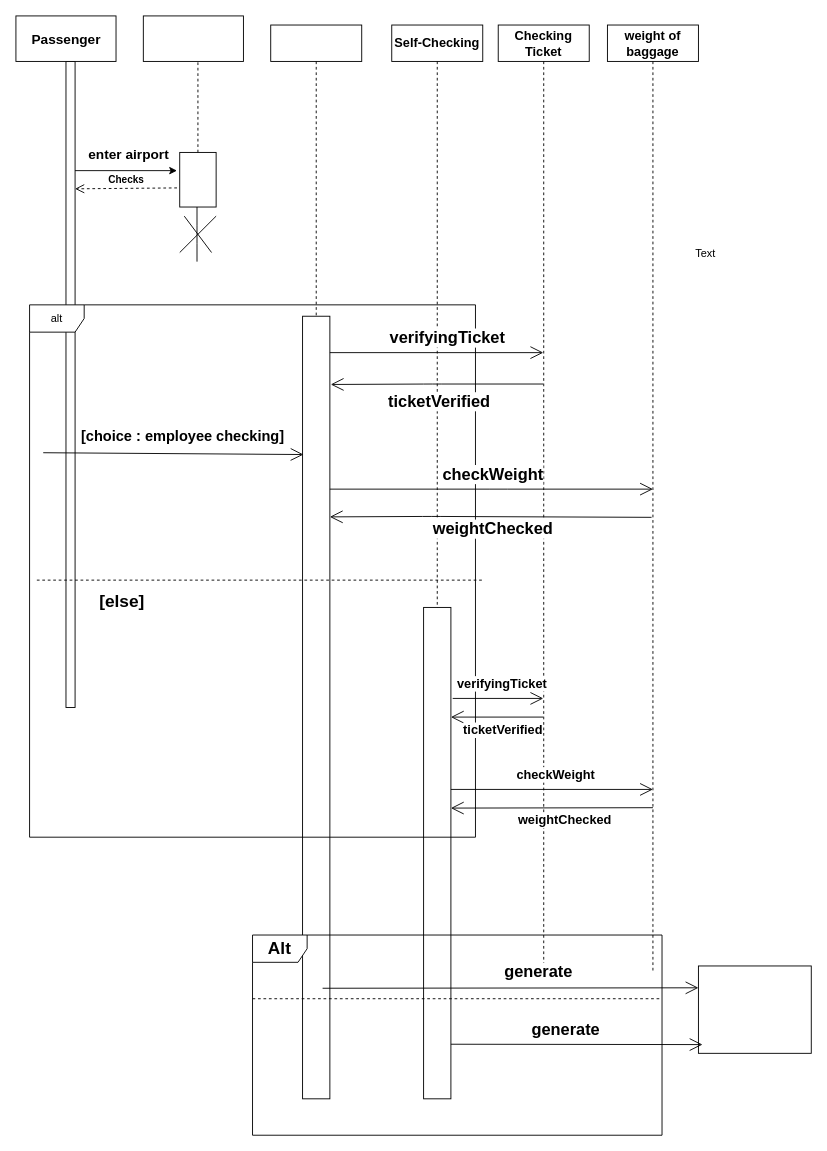
Image size: 827x1151. Some labels were removed from this diagram. The shapes that lost their labels are listed below. From the top down, each one's box as (x1, y1, x2, y2) in pixels, then its label:
(142, 15, 243, 61): Security Check
(270, 24, 362, 316): Checking by employee
(698, 965, 811, 1053): Boarding Pass
